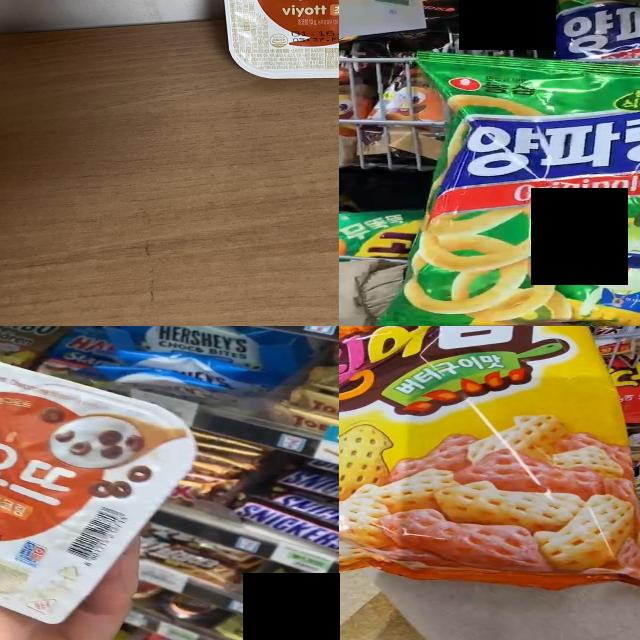bYott: (0, 384, 144, 566), (224, 0, 339, 81)
onionRing: (403, 77, 640, 326), (548, 0, 640, 63)
ozingZip: (339, 326, 614, 550)
